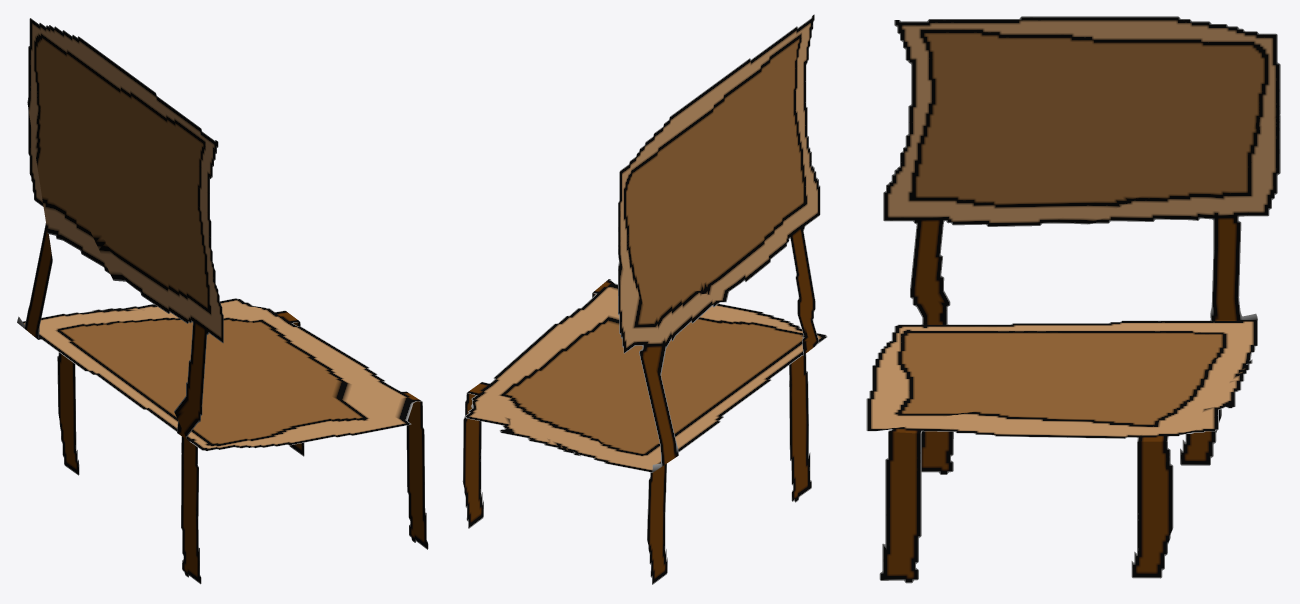
The model's file is woof char.fbx.
The picture shows the model from 3 angles, left to right: view 1: azimuth 30°, elevation 25°; view 2: azimuth 150°, elevation 25°; view 3: azimuth 270°, elevation 25°; orthographic projection. The views are drawn at different scales.
Visible parts, largest first — view 1: Cube; view 2: Cube; view 3: Cube.
Part boxes in pixels (x1,y1,x2,y2): Cube: (17, 18, 428, 584); Cube: (462, 14, 827, 584); Cube: (866, 16, 1280, 583).
Bounding box in the file's own units: 123 × 238 × 193.
